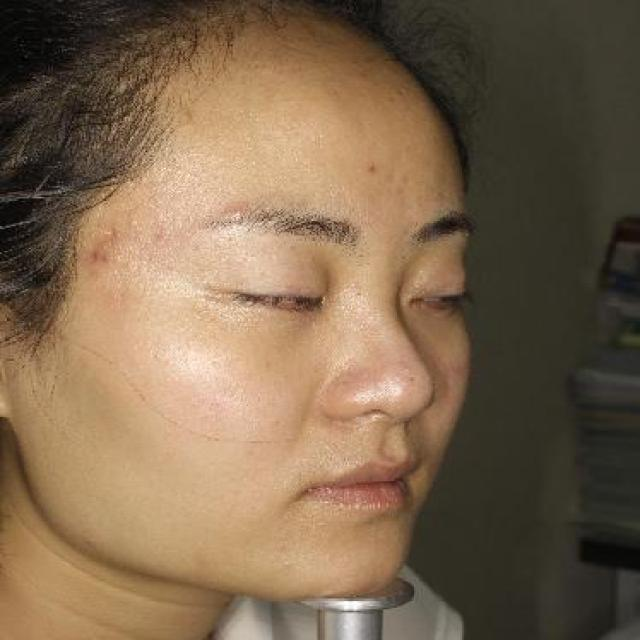dark spot: (363, 158, 383, 178), (86, 248, 99, 264), (99, 251, 110, 266)
whiteheads: (231, 203, 250, 219), (168, 414, 186, 428), (120, 258, 137, 271), (281, 557, 294, 569)
